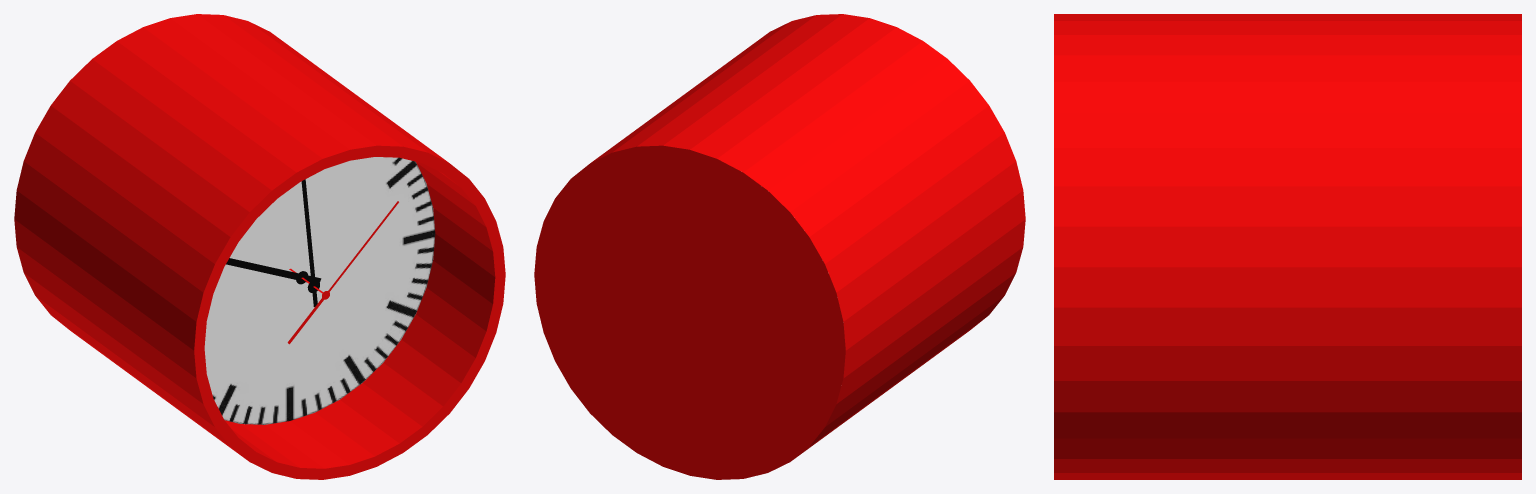
Rendered from sh-contrib-clock2.glb.
3 views of the same model, side by side, from view 1: azimuth 30°, elevation 25°; view 2: azimuth 150°, elevation 25°; view 3: azimuth 270°, elevation 25° (orthographic). The views are drawn at different scales.
Parts seen in each view (by area): view 1: frame, face, sweethome3d_hinge_1, sweethome3d_hinge_3; view 2: frame, sweethome3d_hinge_3; view 3: frame.
Part boxes in pixels (bbox=[...]): frame: bbox=[14, 14, 505, 479]; face: bbox=[204, 157, 435, 424]; sweethome3d_hinge_1: bbox=[226, 179, 321, 306]; sweethome3d_hinge_3: bbox=[287, 201, 398, 344]; frame: bbox=[591, 14, 1025, 459]; sweethome3d_hinge_3: bbox=[534, 145, 845, 479]; frame: bbox=[1054, 14, 1521, 479].
Bounding box in the file's own units: 1 × 1 × 1.
3 materials, 1 textured.
